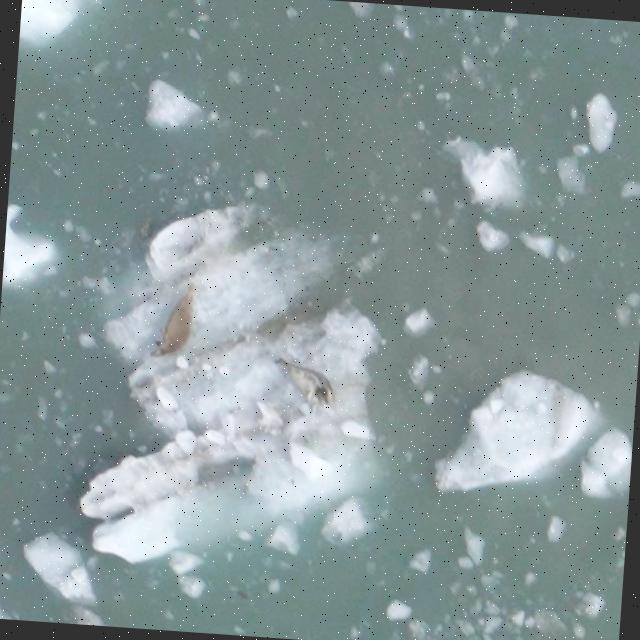seal: (146, 277, 214, 367), (272, 344, 342, 414)
